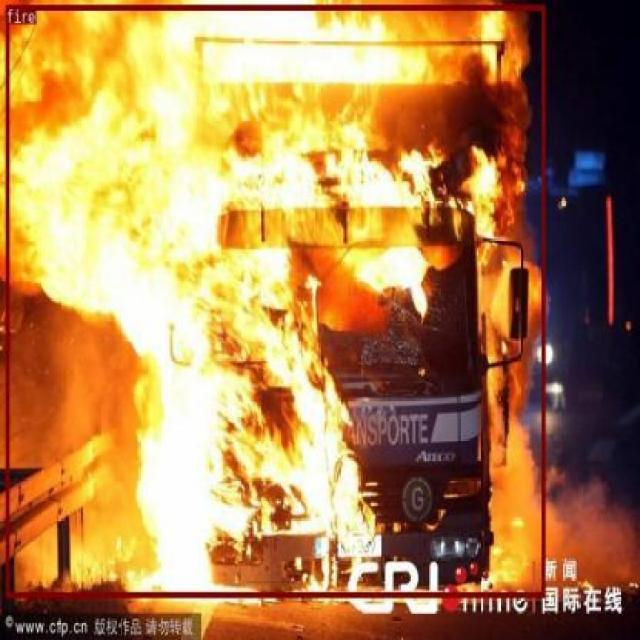Fire: (4, 5, 544, 598)
